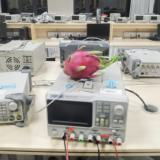pitaya: (63, 51, 114, 80)
